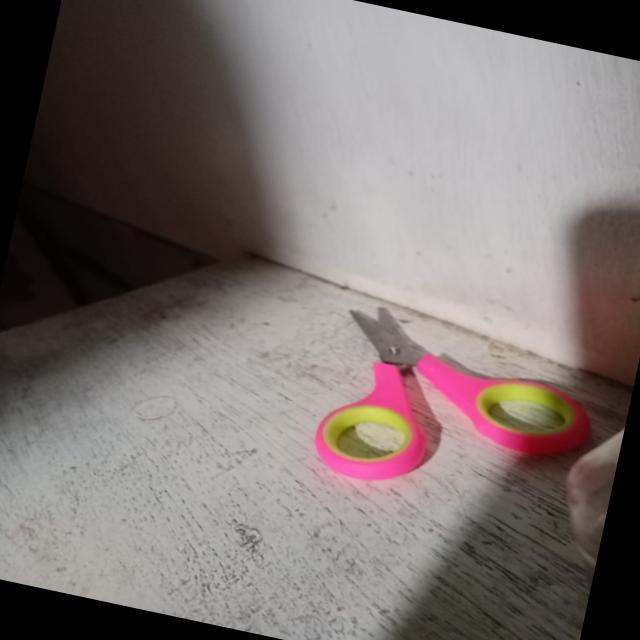scissors: (274, 256, 612, 525)
